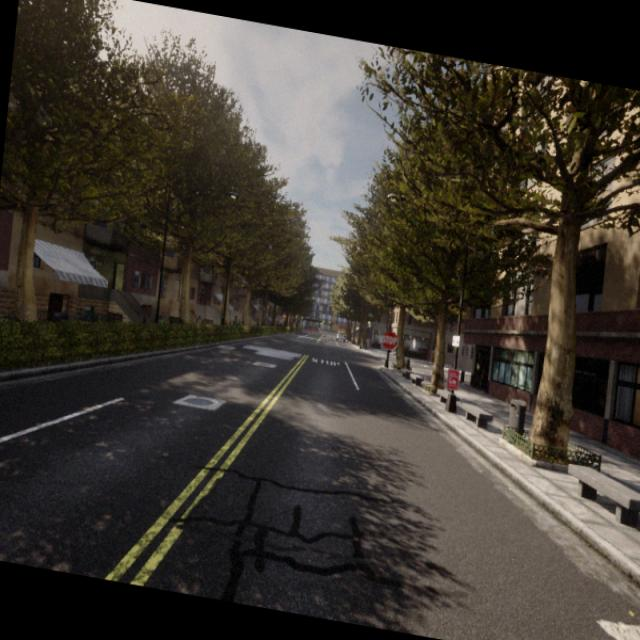stop sign: (378, 325, 399, 369), (379, 328, 398, 351)
